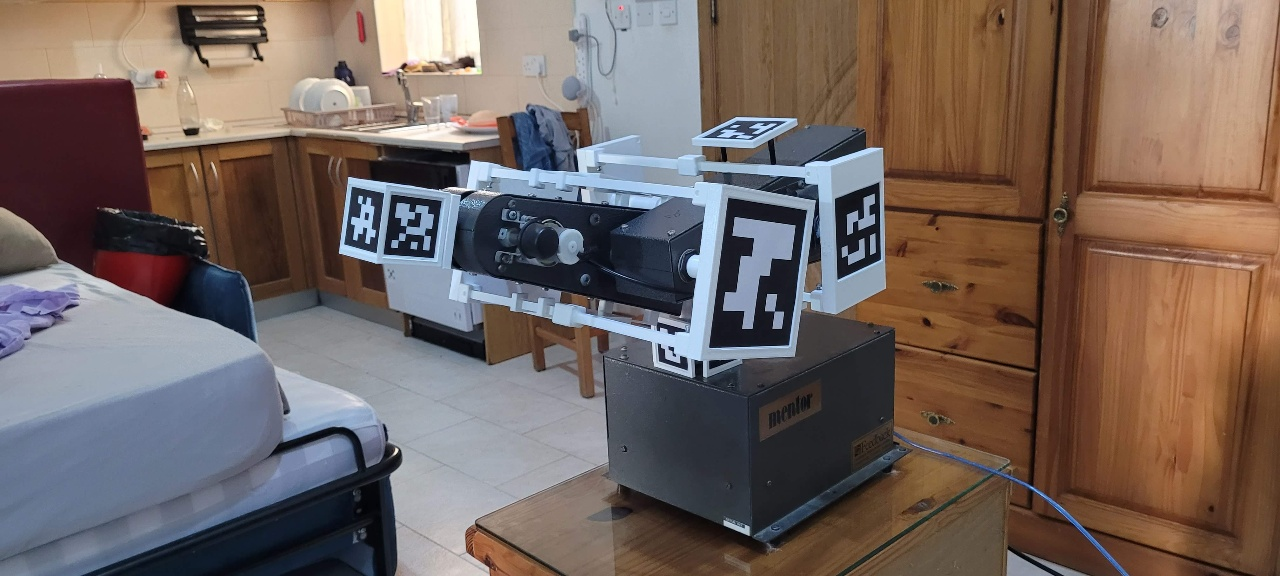Robot: (337, 114, 888, 381)
